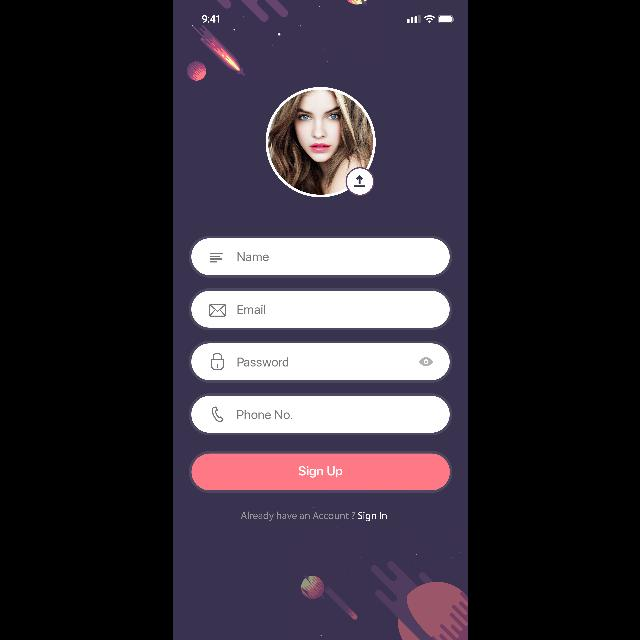backgroundimage: (172, 1, 468, 640)
icon: (210, 354, 223, 371), (208, 304, 226, 316), (212, 406, 222, 422), (419, 358, 433, 367), (210, 254, 222, 262)
image: (265, 87, 375, 197)
input: (188, 236, 452, 278), (188, 288, 452, 330), (188, 341, 452, 383), (188, 393, 452, 435)
text: (240, 511, 386, 521), (236, 410, 292, 420), (236, 358, 288, 367), (236, 252, 268, 262), (236, 304, 264, 314)
textbutton: (188, 451, 452, 493)
uppertaskbar: (202, 15, 454, 23)
